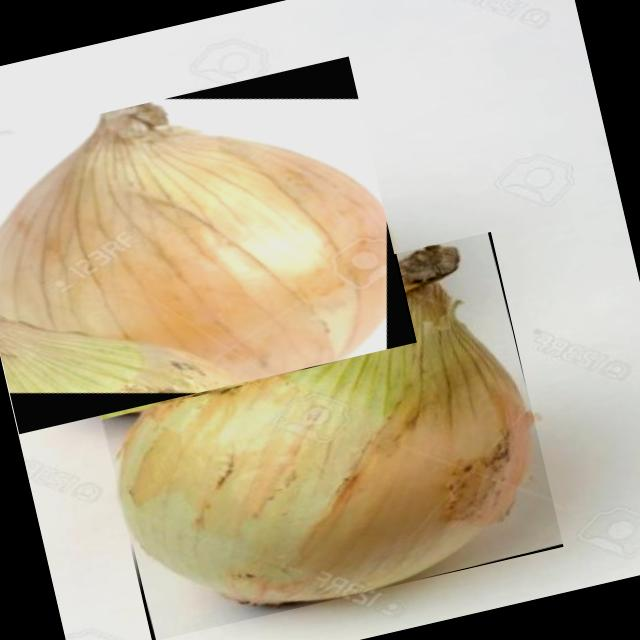healthy: (121, 244, 533, 601), (0, 102, 387, 381)
